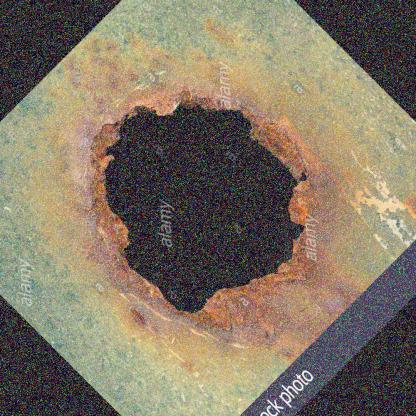burst: (90, 75, 333, 328)
